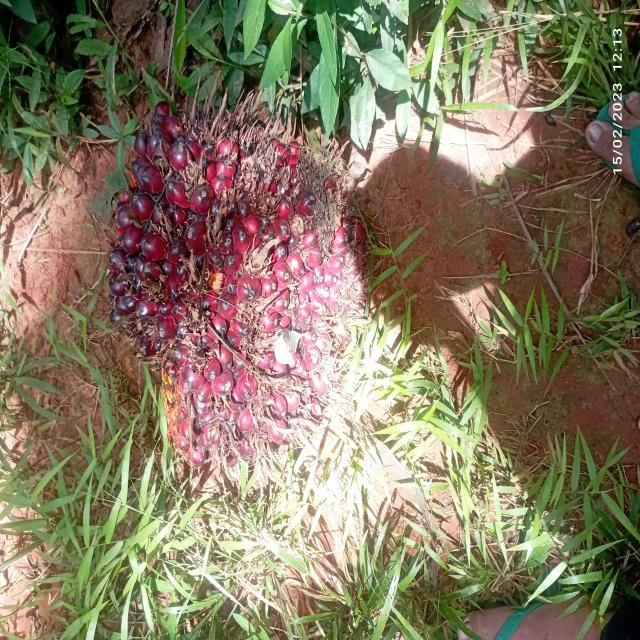fraksi 1: (81, 50, 383, 507)
